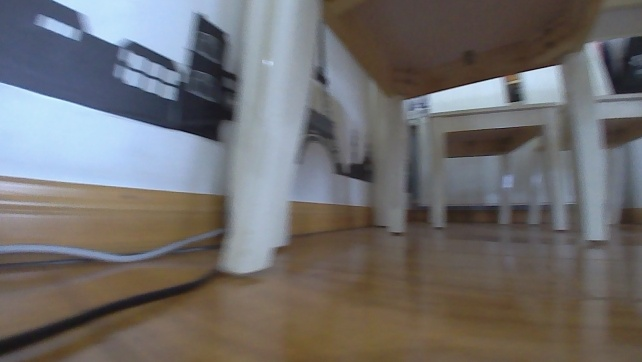dining_table1: (212, 0, 641, 280)
wire: (0, 267, 223, 361), (0, 224, 231, 271)
